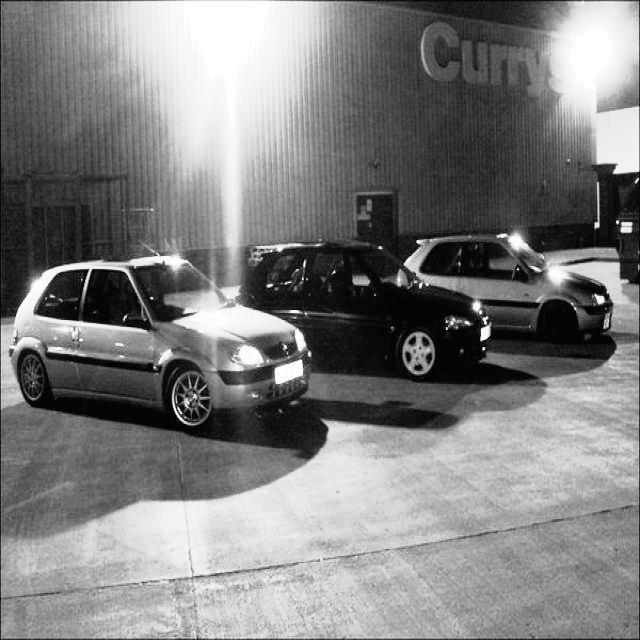Car: (8, 237, 343, 460), (234, 231, 500, 425), (415, 204, 640, 403), (604, 161, 640, 310)
